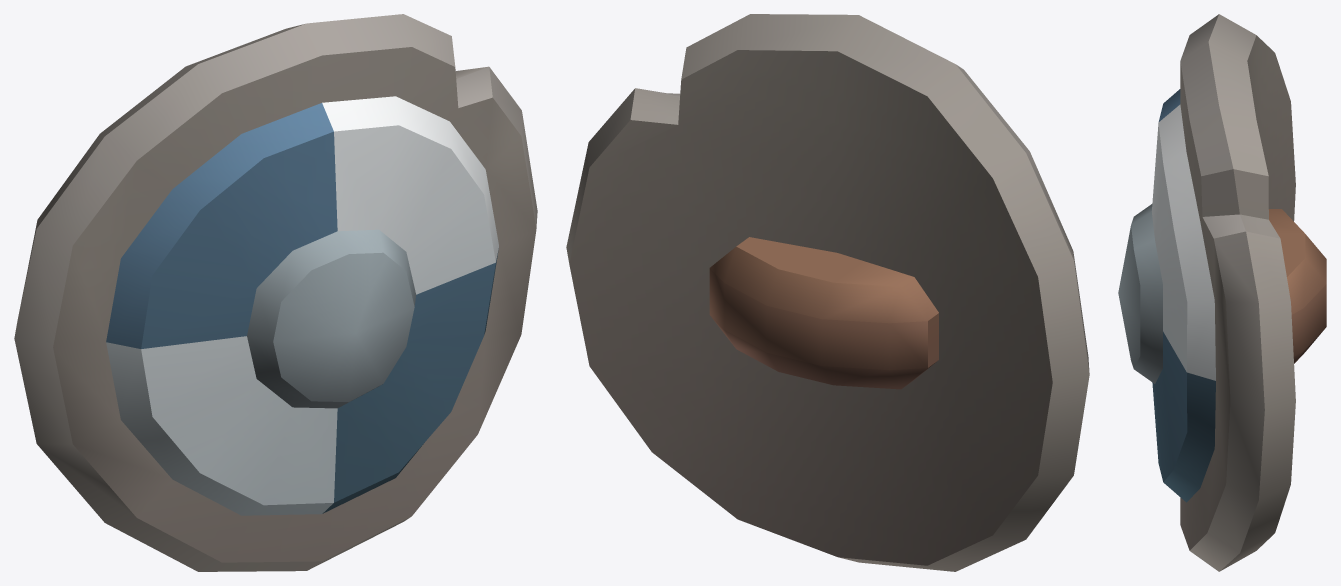
The model's file is shield_round_barbarian.glb.
3 views of the same model, side by side, from view 1: azimuth 30°, elevation 25°; view 2: azimuth 150°, elevation 25°; view 3: azimuth 270°, elevation 25° (orthographic). The views are drawn at different scales.
Parts seen in each view (by area): view 1: shield_round_barbarian; view 2: shield_round_barbarian; view 3: shield_round_barbarian.
Part boxes in pixels (x1,y1,x2,y2): shield_round_barbarian: (14, 14, 537, 571); shield_round_barbarian: (566, 14, 1089, 571); shield_round_barbarian: (1118, 14, 1326, 571).
Bounding box in the file's own units: 0.8826 × 0.8826 × 0.3319.
1 material, 1 textured.
